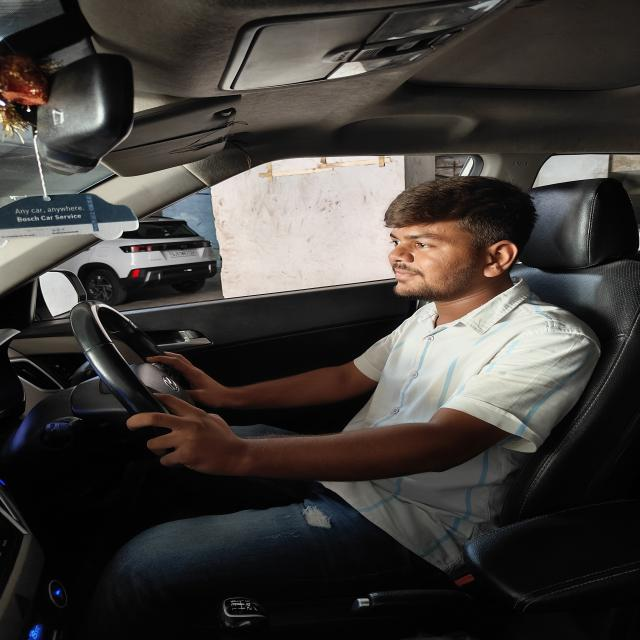no-seatbelt: (304, 297, 608, 595)
